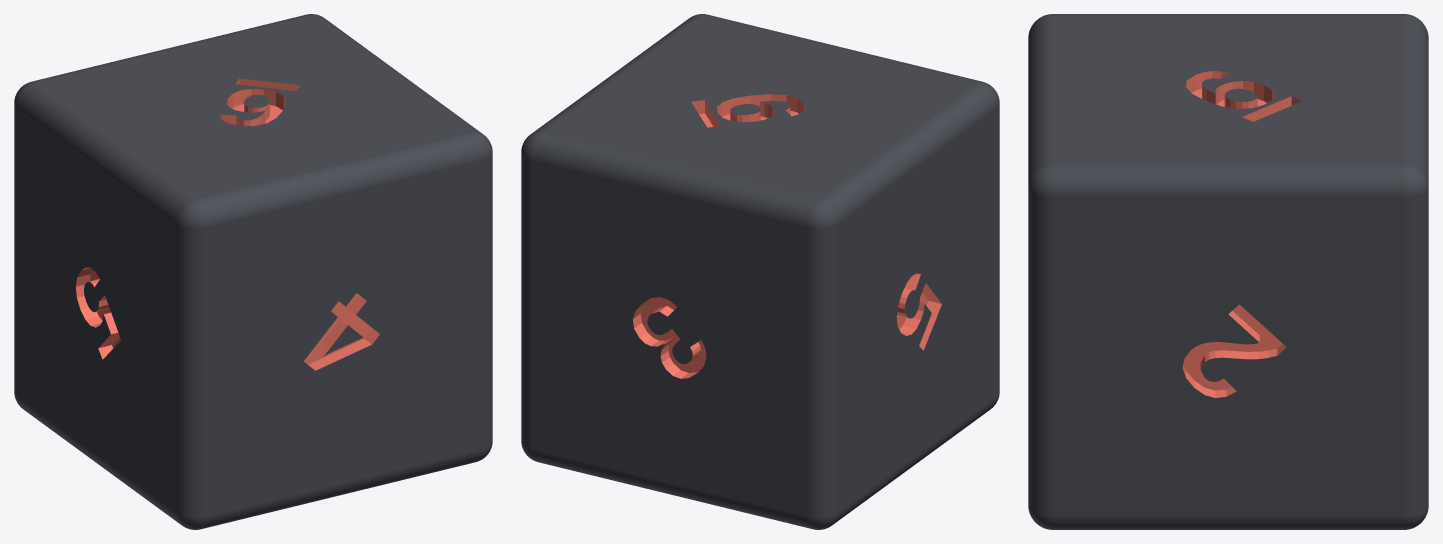
3 views of the same model, side by side, from view 1: azimuth 30°, elevation 25°; view 2: azimuth 150°, elevation 25°; view 3: azimuth 270°, elevation 25° (orthographic). The views are drawn at different scales.
Visible parts, largest first — view 1: d6; view 2: d6; view 3: d6.
Boxes of the visible parts, box(x1,y1,x2,y2) form: d6: box(14, 14, 492, 529); d6: box(521, 14, 999, 529); d6: box(1028, 14, 1428, 529).
Bounding box in the file's own units: 16 × 16 × 16.
